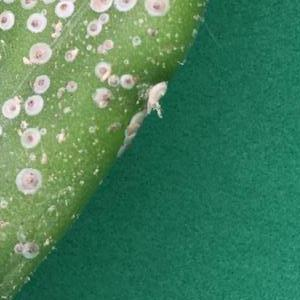Femea: (30, 45, 47, 62), (25, 16, 44, 31), (21, 131, 39, 145), (1, 103, 19, 116), (1, 10, 13, 29), (54, 2, 68, 16), (87, 23, 101, 36), (35, 77, 48, 90), (25, 97, 37, 111), (98, 13, 108, 23), (14, 244, 22, 255)
